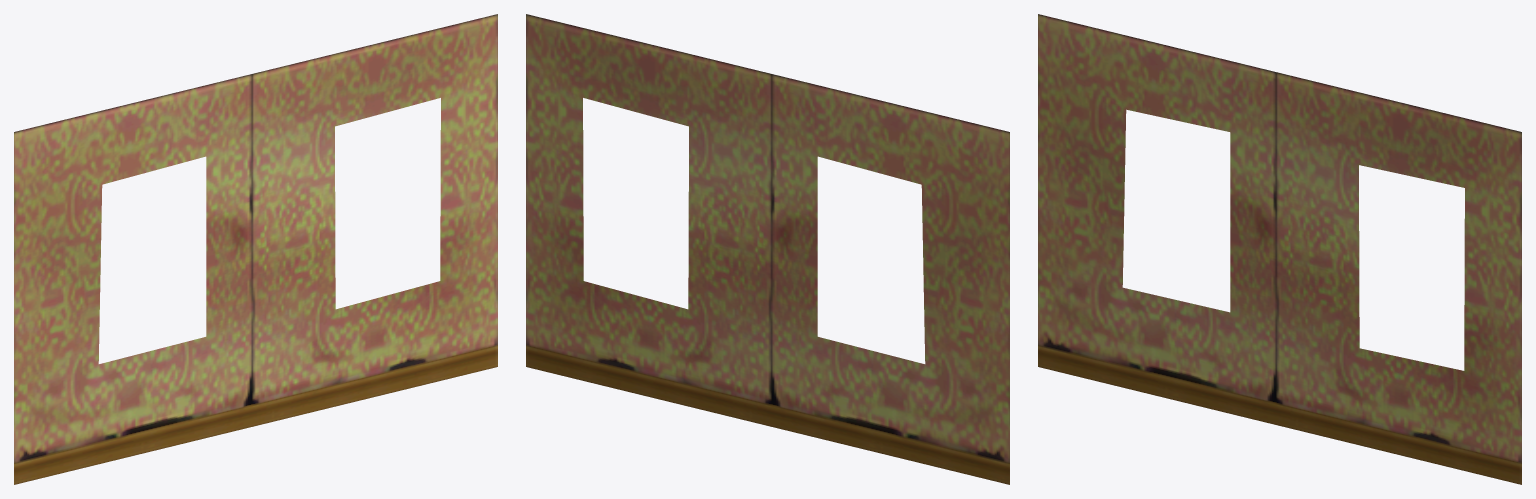
Rendered from W_AI3_ff [RosaPlastik]_2330.glb.
3 renders of one model, left to right at view 1: azimuth 30°, elevation 25°; view 2: azimuth 150°, elevation 25°; view 3: azimuth 330°, elevation 25°, orthographic.
Parts seen in each view (by area): view 1: pPlaneShape1; view 2: pPlaneShape1; view 3: pPlaneShape1.
Boxes of the visible parts, x1,y1,x2,y2 form: pPlaneShape1: (14,14,497,484); pPlaneShape1: (526,14,1009,484); pPlaneShape1: (1038,14,1521,484).
Bounding box in the file's own units: 0.5 × 0.3486 × 1.12e-07.
1 material, 1 textured.
